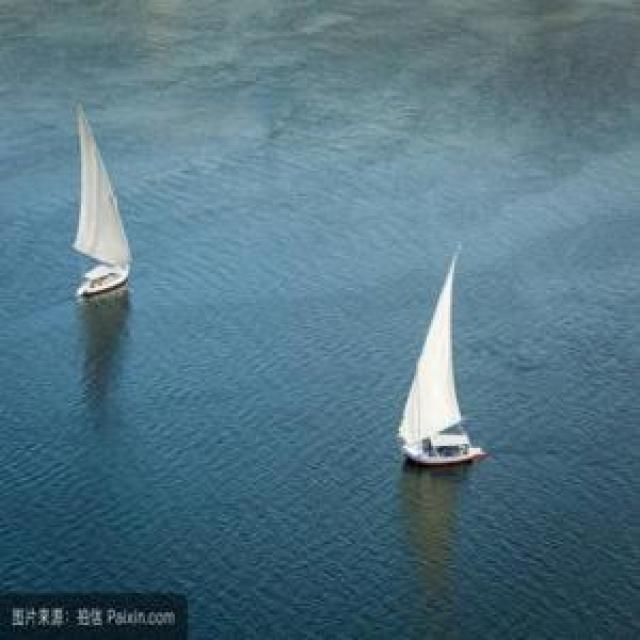sailboat: (401, 238, 494, 460), (63, 97, 141, 299)
